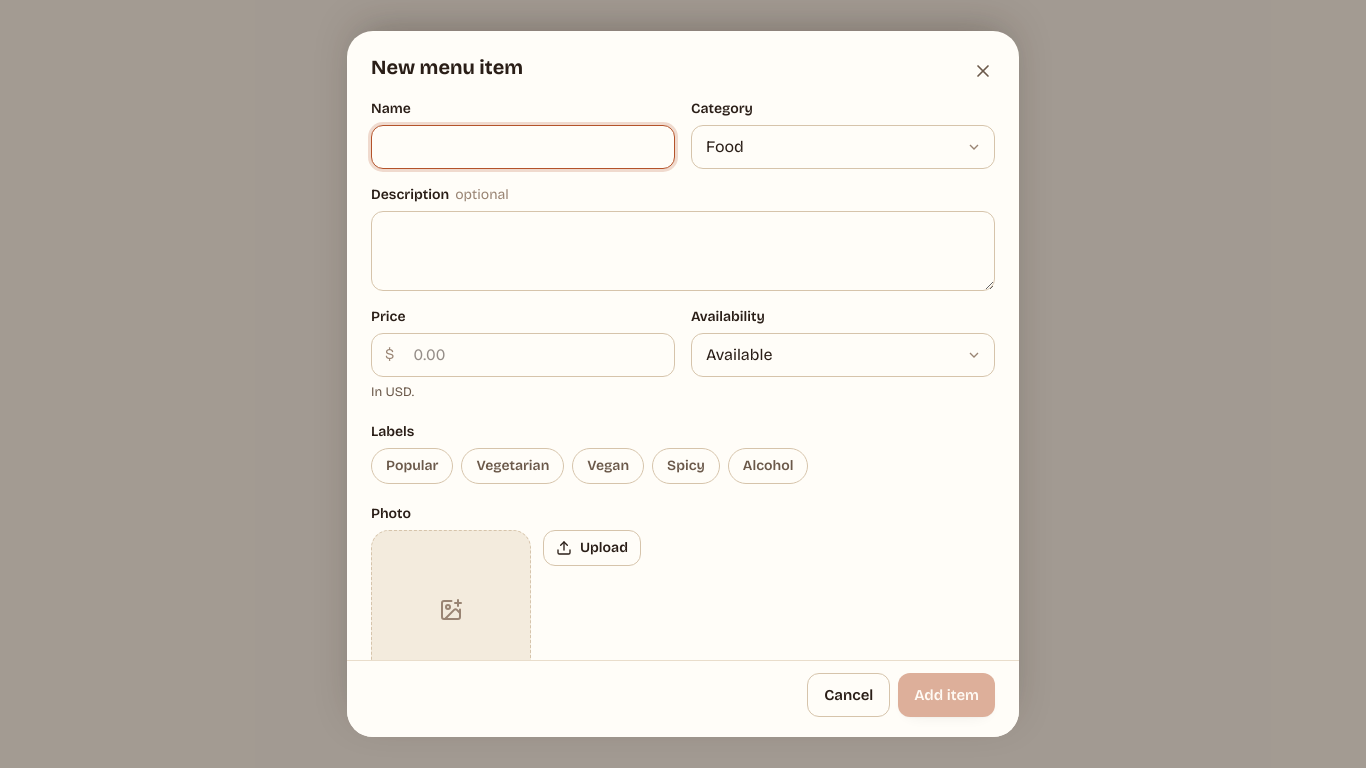
Test: admin menu creation › refuses an invalid price
In the field labelled "Name": (523, 147) [371,125,675,169], type "Mystery"
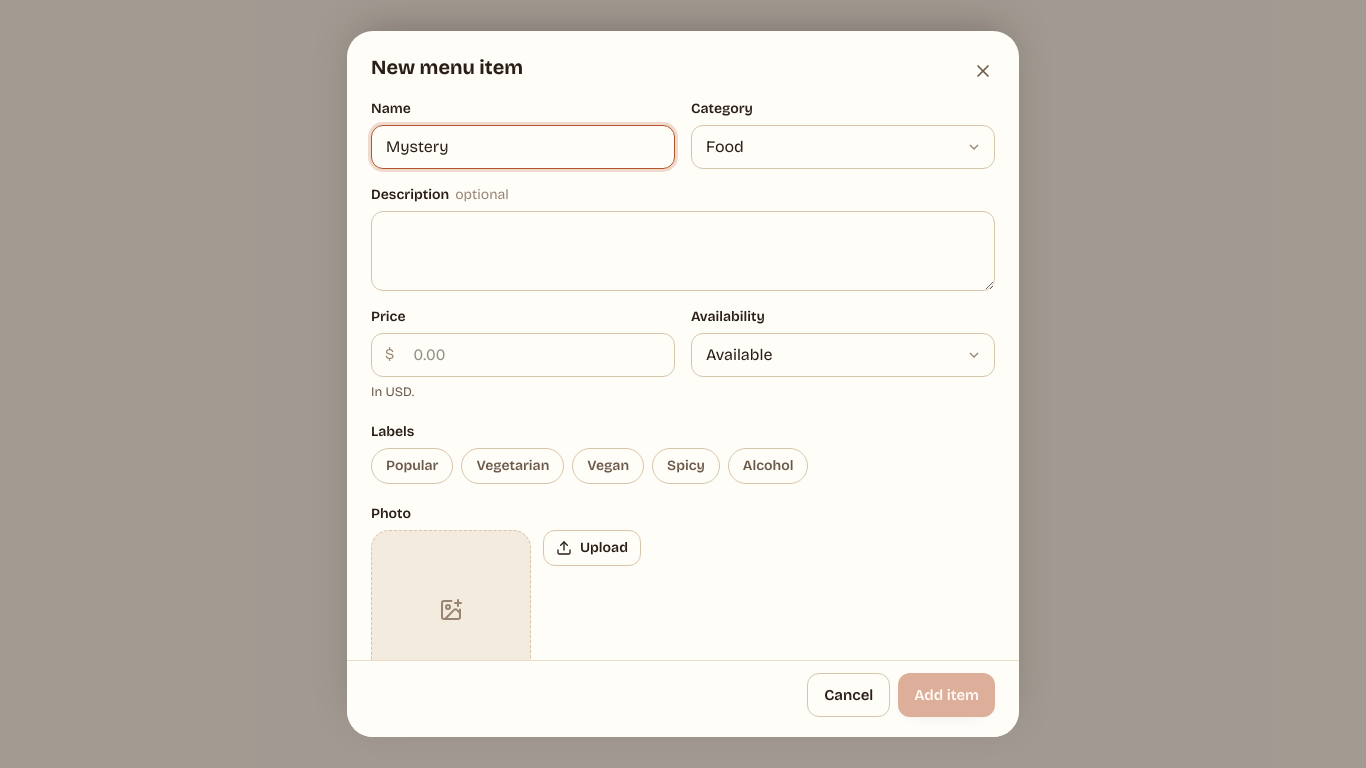
In the field labelled "Price": (523, 355) [371,333,675,377], type "8.505"
(page scrolled)
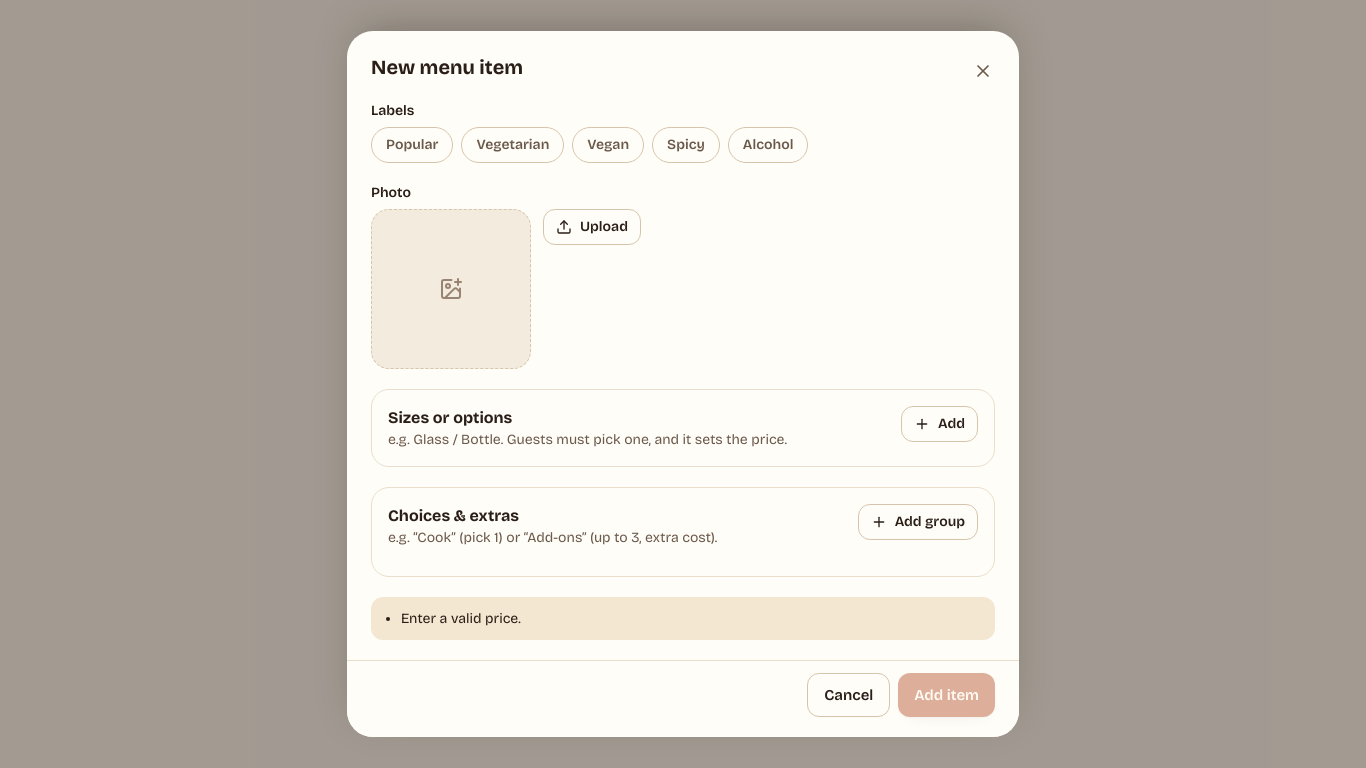
Expected: the button "Add item" is disabled, [898,673,995,717]
Now the list item "Enter a valid price." is shown, box [401,610,521,627]
